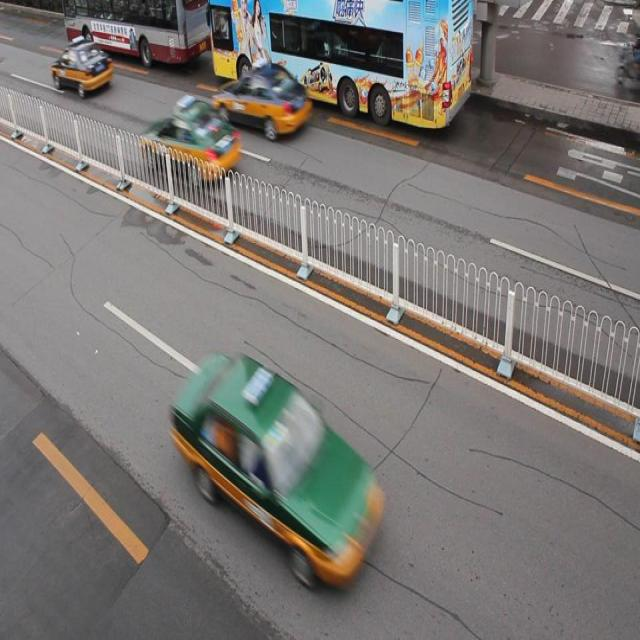car: (172, 353, 379, 581), (138, 100, 242, 183), (213, 62, 313, 140), (51, 37, 114, 97)
van: (209, 1, 474, 127), (63, 1, 210, 64)
